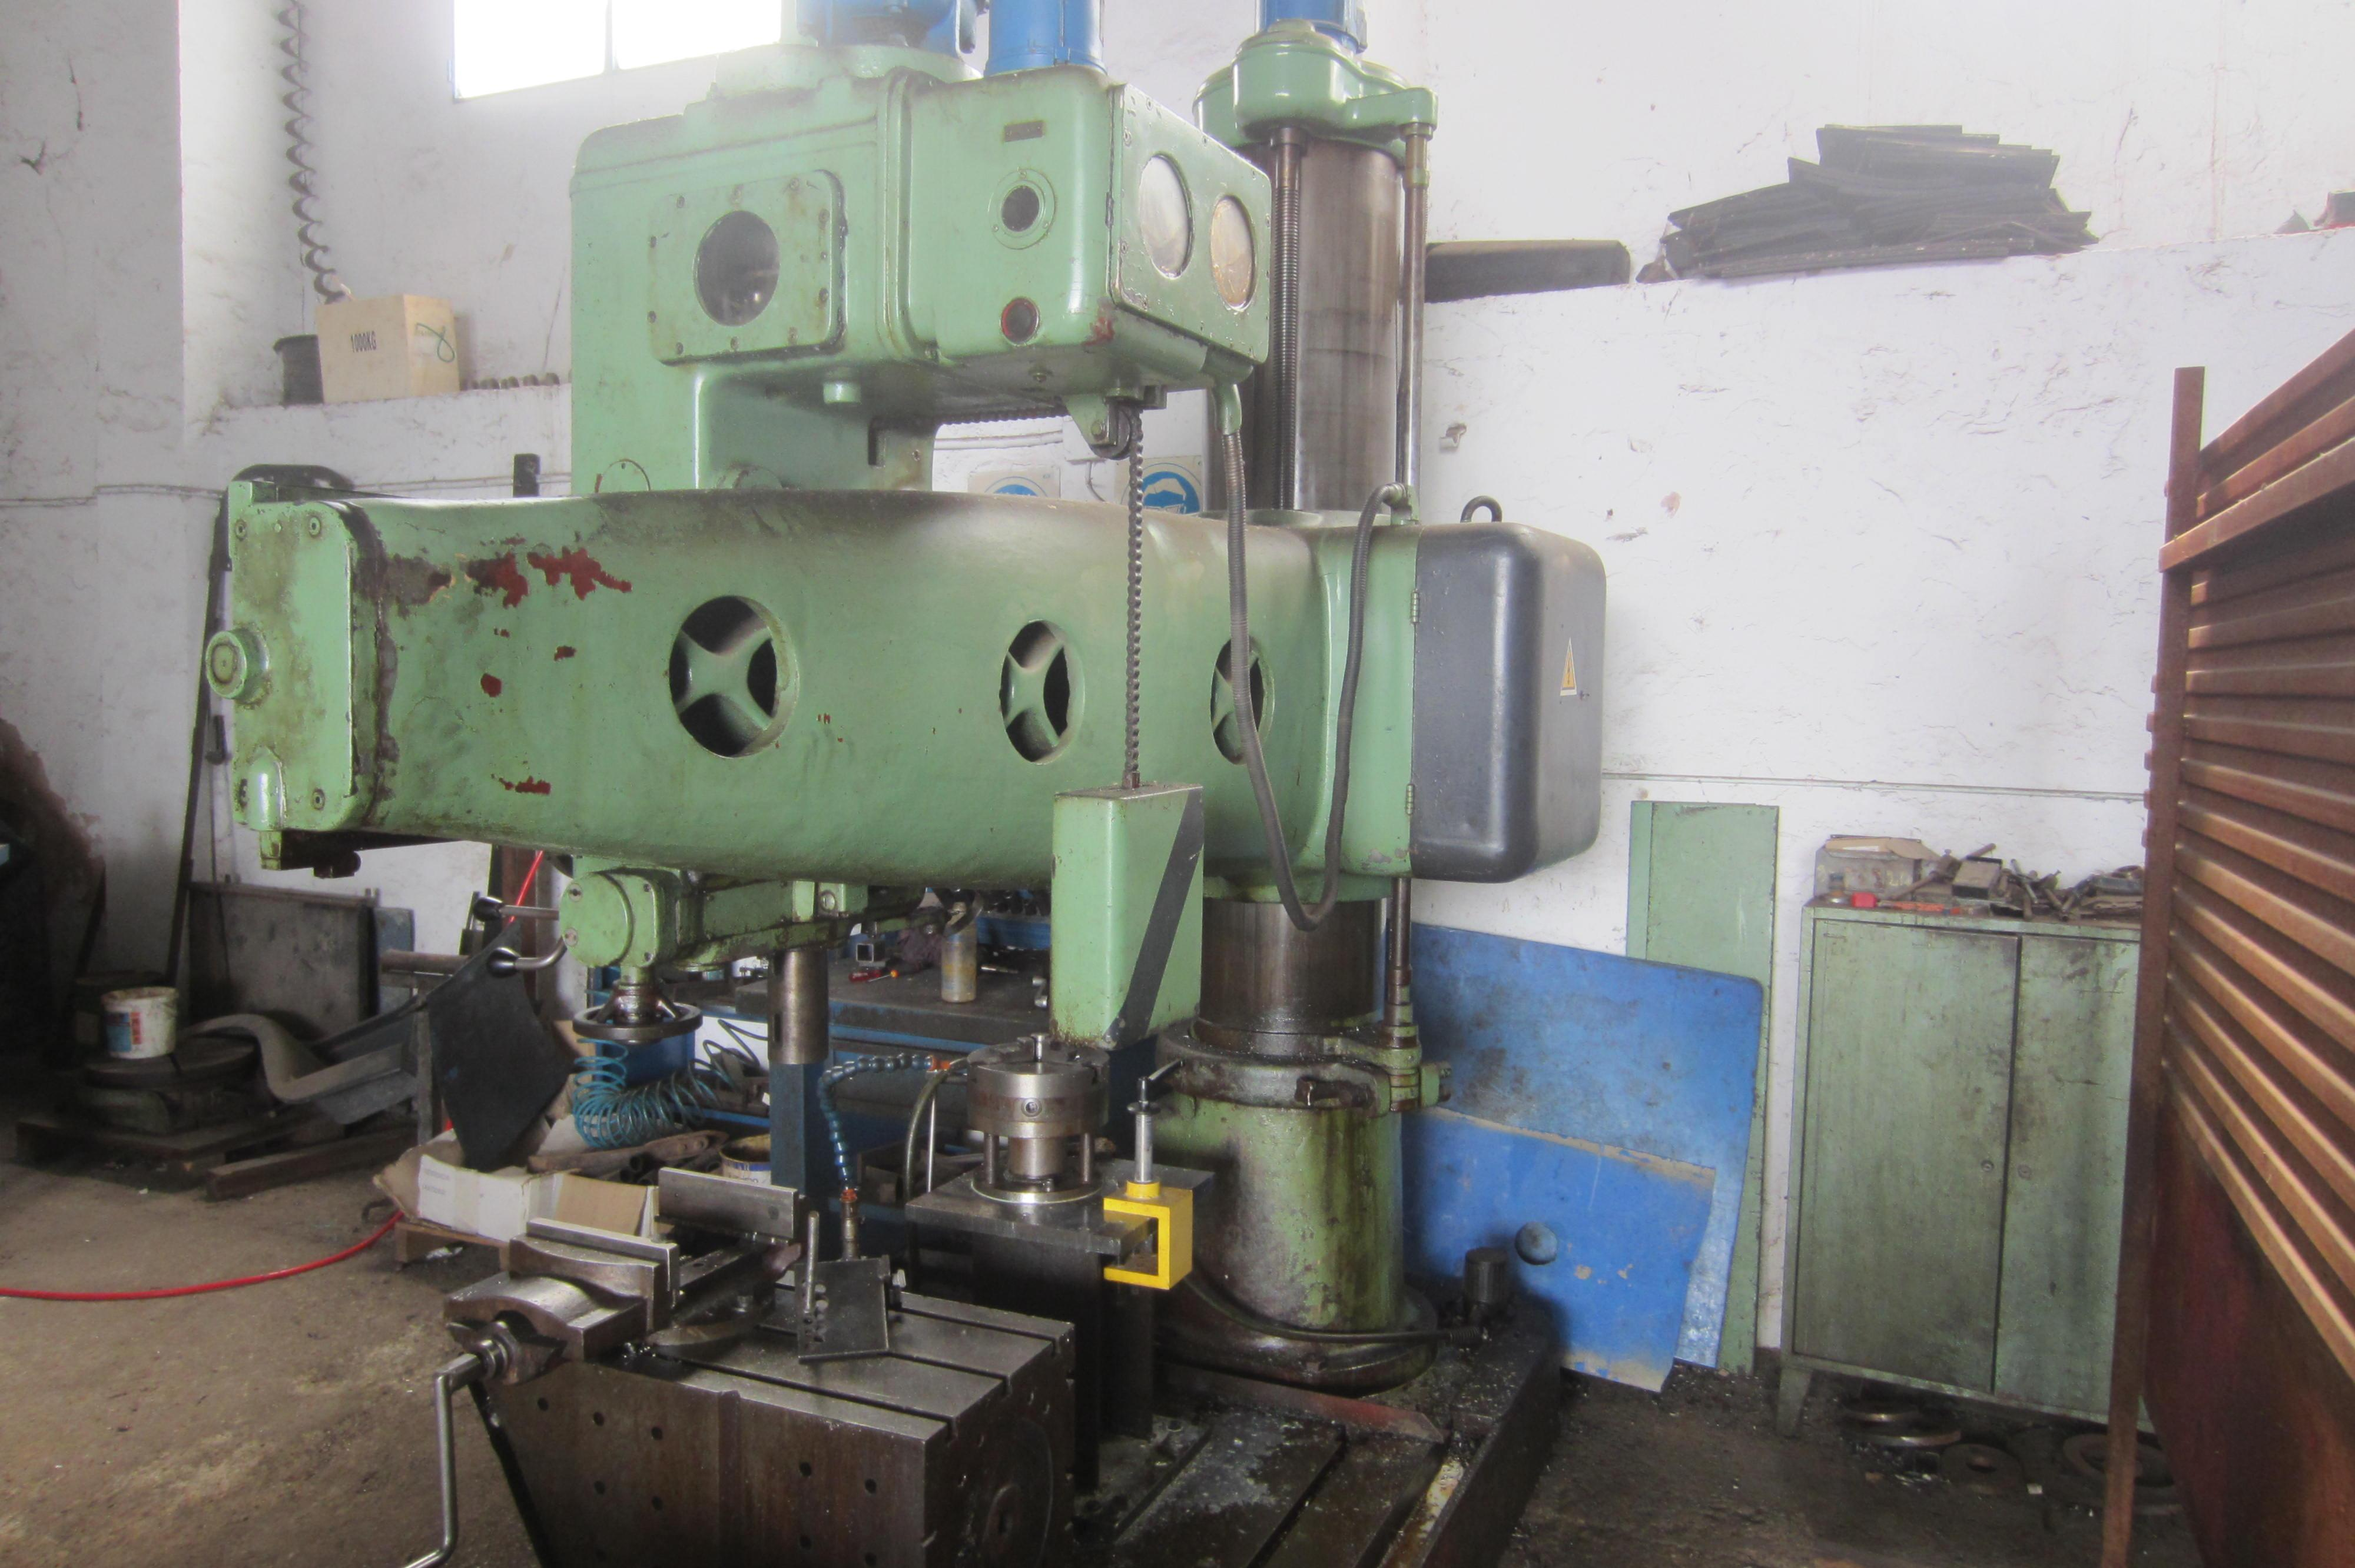falta_resguardo: (761, 931, 835, 1071)
